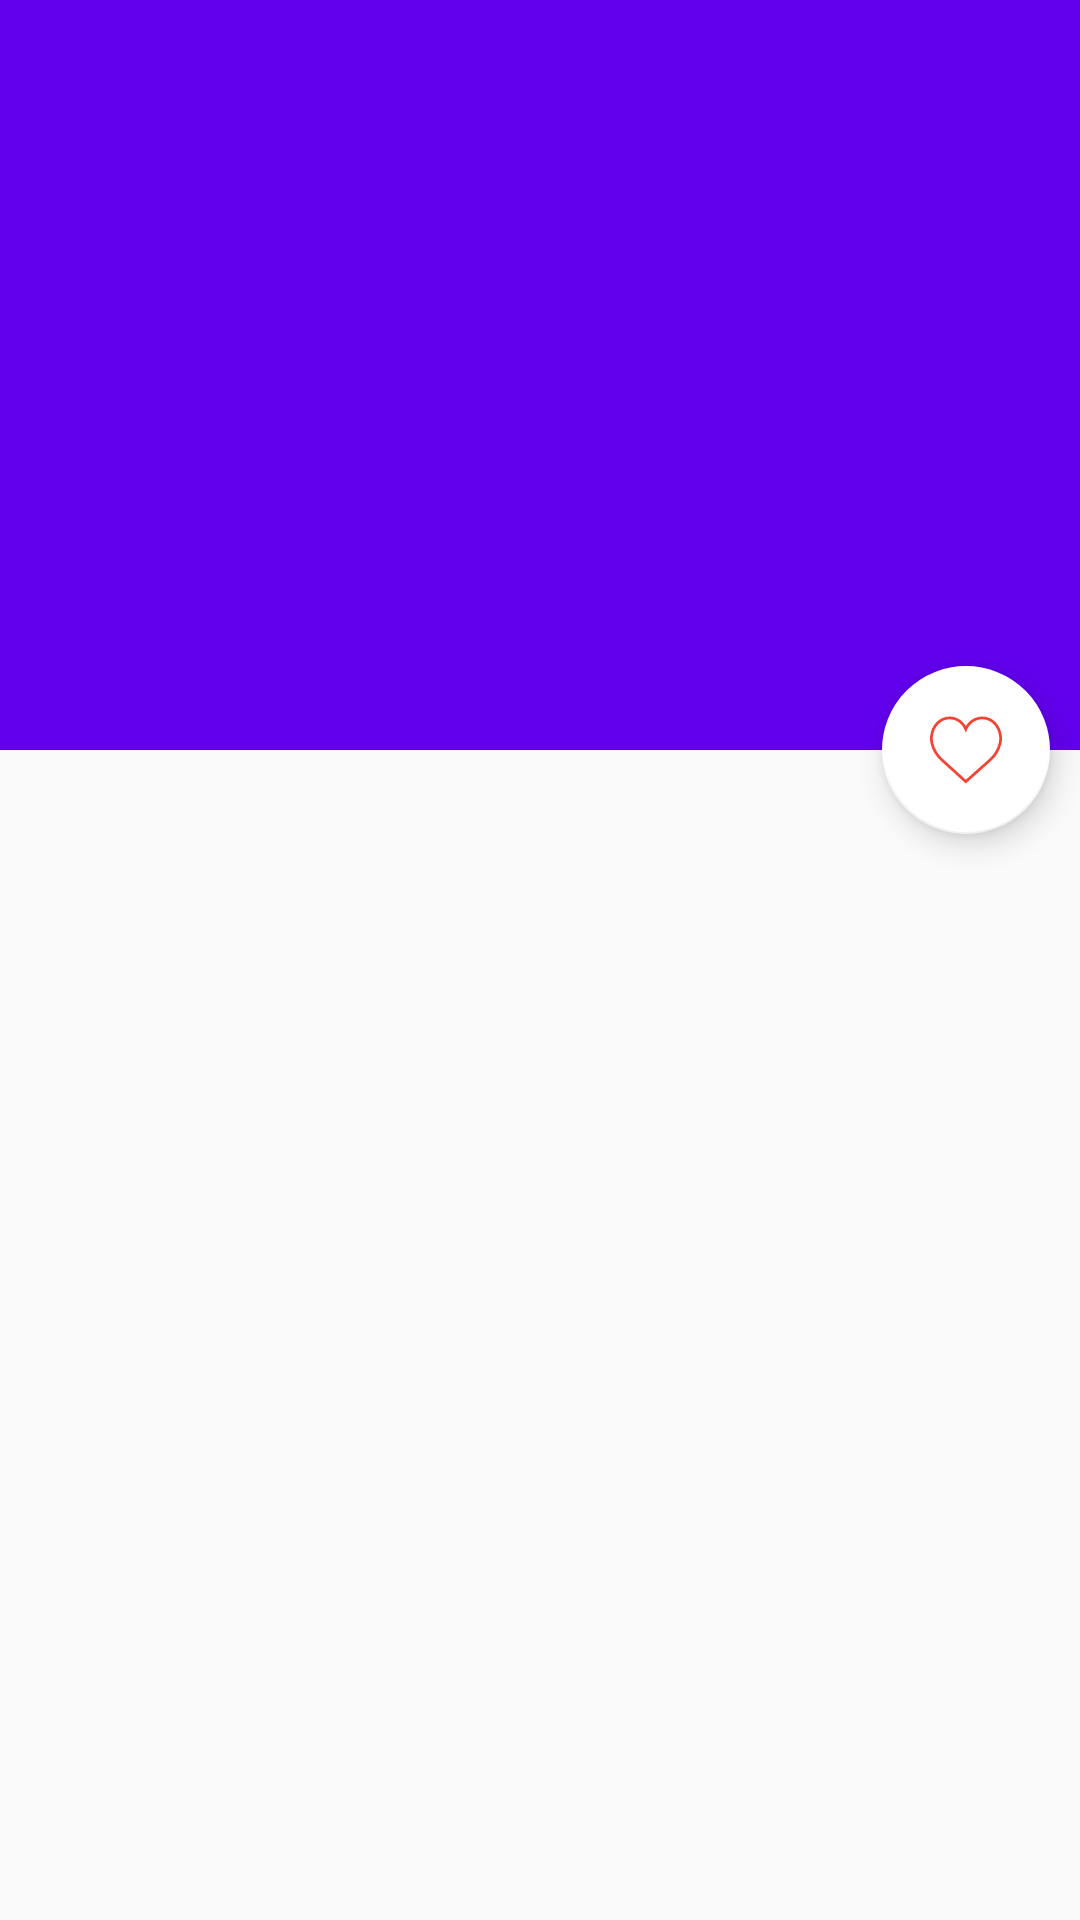

Icons on this 1080*1920 Android screen, each with the point to tap as (x=x, y=y):
heart: (x=966, y=750)
